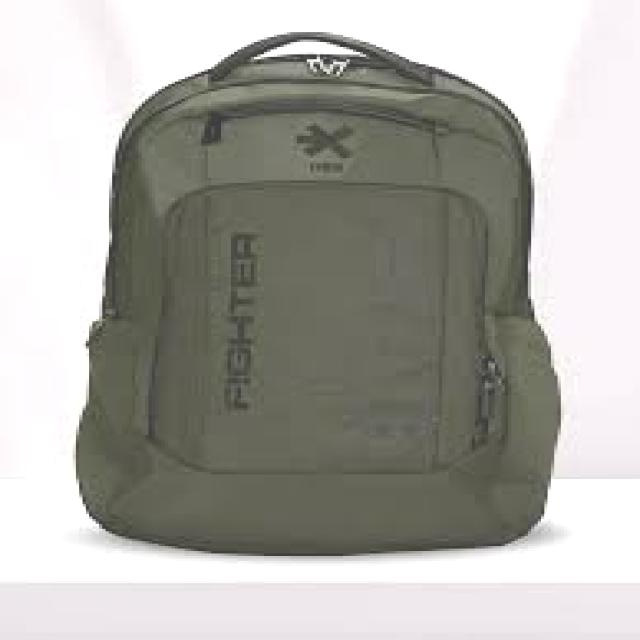backpack: (74, 31, 562, 555)
